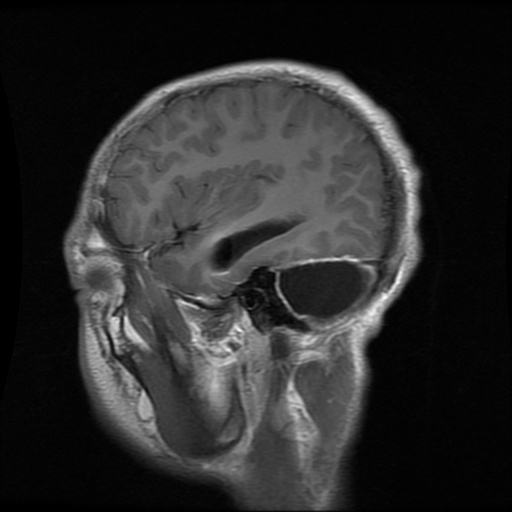glioma: (277, 259, 366, 318)
